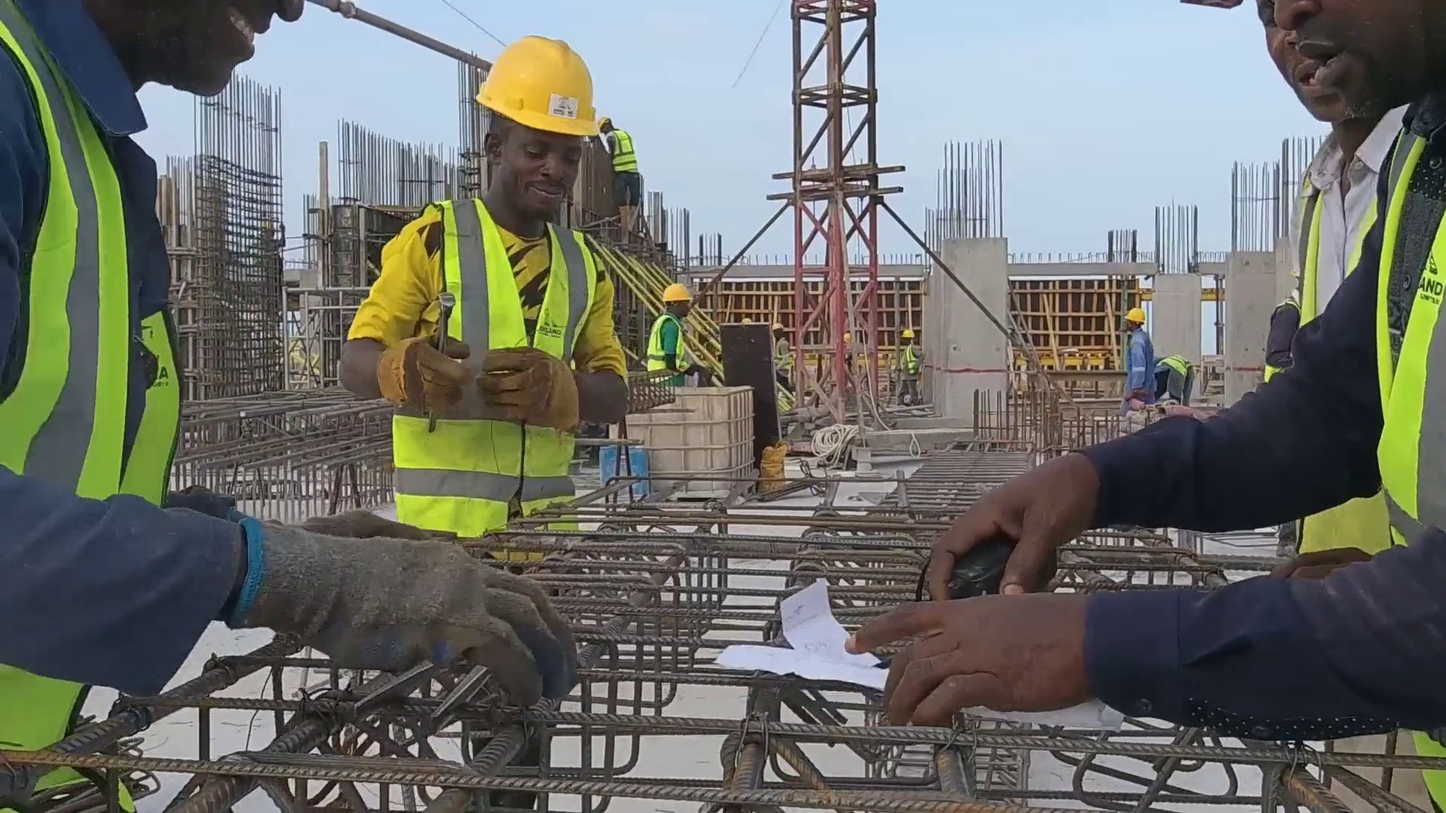helmet: (474, 35, 600, 137), (662, 284, 693, 304), (1125, 308, 1146, 324), (597, 117, 613, 132), (900, 329, 916, 340), (844, 332, 854, 344), (772, 323, 784, 331)
person: (847, 0, 1446, 804), (0, 0, 581, 811), (337, 35, 631, 539), (646, 284, 712, 388), (596, 117, 645, 217), (1119, 308, 1157, 416), (896, 329, 924, 406), (1155, 356, 1196, 407), (773, 323, 796, 400), (841, 332, 862, 403)
